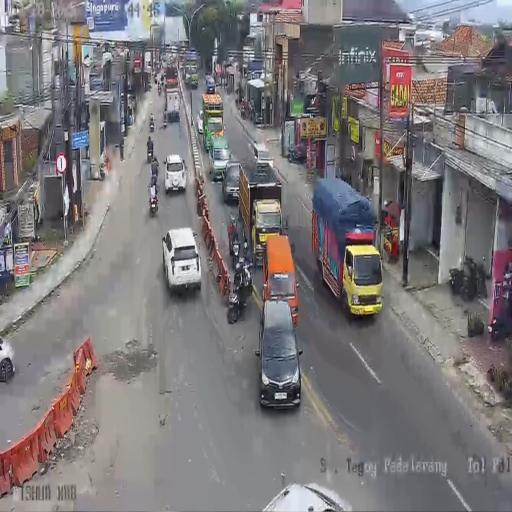3: (312, 176, 381, 315), (236, 161, 282, 262), (202, 91, 224, 150), (184, 48, 199, 88), (166, 90, 180, 123), (165, 63, 178, 92)
car: (257, 300, 302, 408), (162, 227, 200, 293), (164, 154, 186, 194), (222, 161, 242, 204), (252, 142, 274, 175), (0, 334, 15, 382), (206, 75, 216, 94), (197, 110, 203, 135)
truck: (148, 182, 159, 214), (147, 143, 153, 163), (149, 113, 155, 132), (157, 80, 162, 94), (148, 76, 152, 89), (154, 73, 158, 84)
